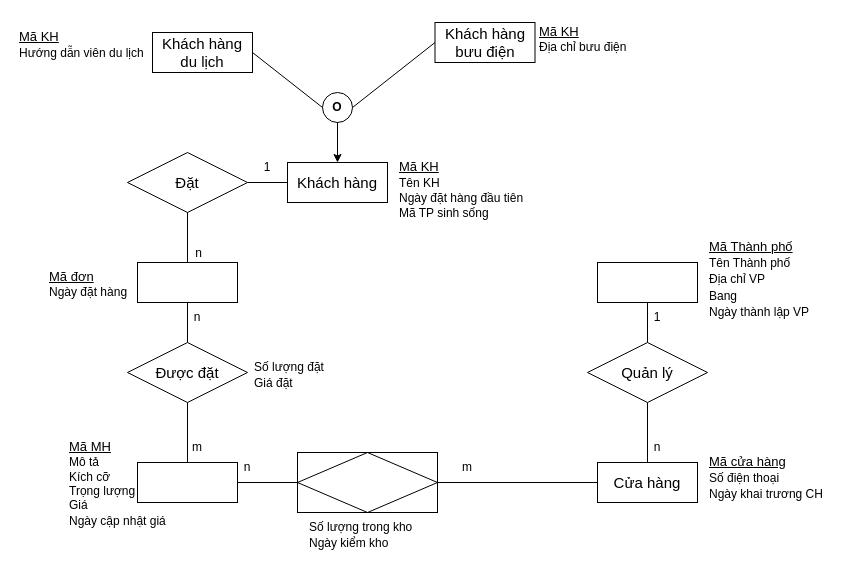
This 844x579 diagram has some shape labels left out. The shapes that lost their labels are listed below. From the top down, each one's centre as x and y in pixels, then its label:
At pixel 187 282: "Đợn đặt hàng".
At pixel 647 282: "Văn phòng đại diện".
At pixel 187 482: "Mặt hàng".
At pixel 367 482: "Được lưu trữ".
